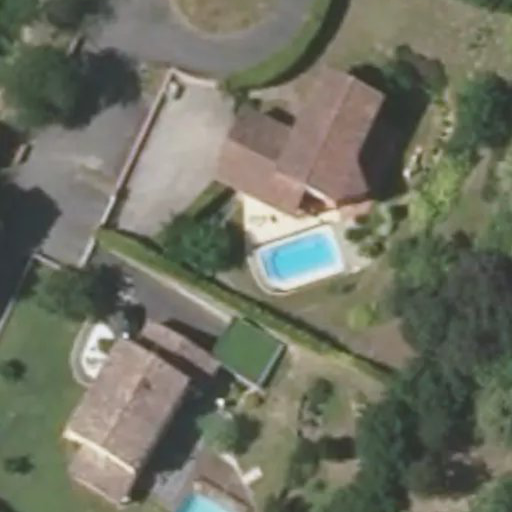pool: (217, 235, 294, 245)
